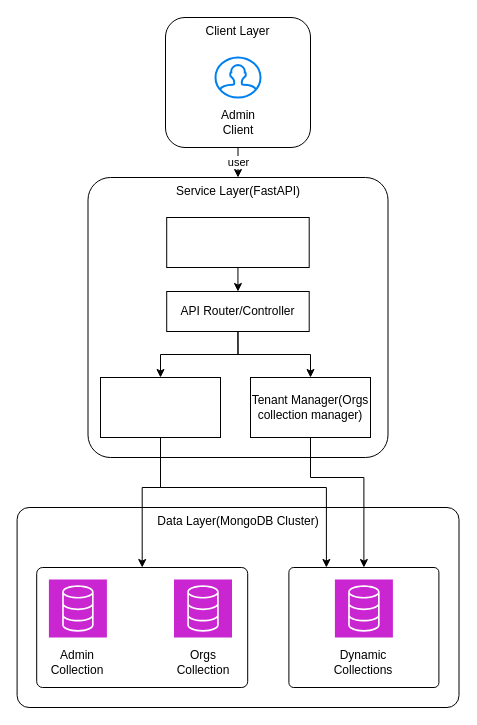
Some shapes in this 477 by 725 pixel diagram are drawn without their labels. Each missing label, with the centre of its shape:
"Auth Middleware(JWT and Organization ID)" belongs at (x=237, y=242).
"Master Manager(Admin login, create orgs)" belongs at (x=160, y=407).
